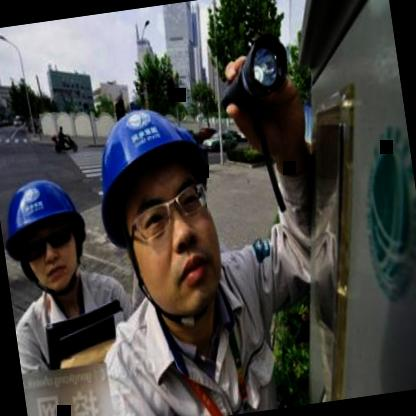helmet: (77, 84, 241, 336), (0, 158, 98, 306)
